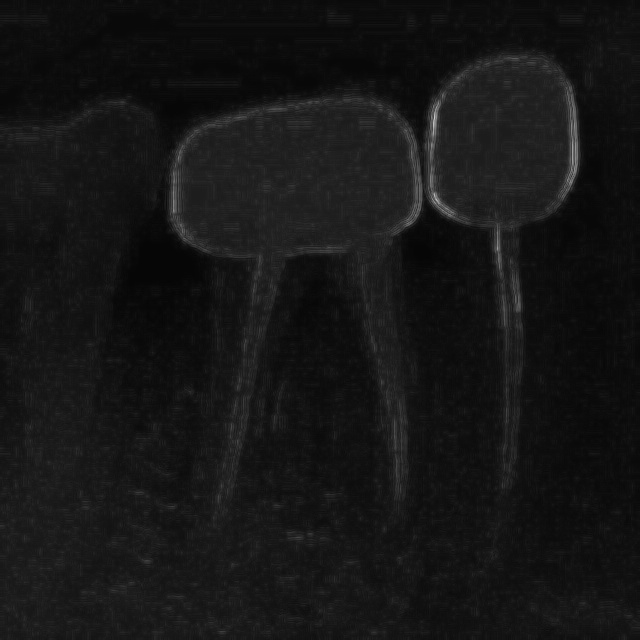Class 0- No endodontic treatment: (148, 70, 428, 580), (405, 36, 612, 606)
